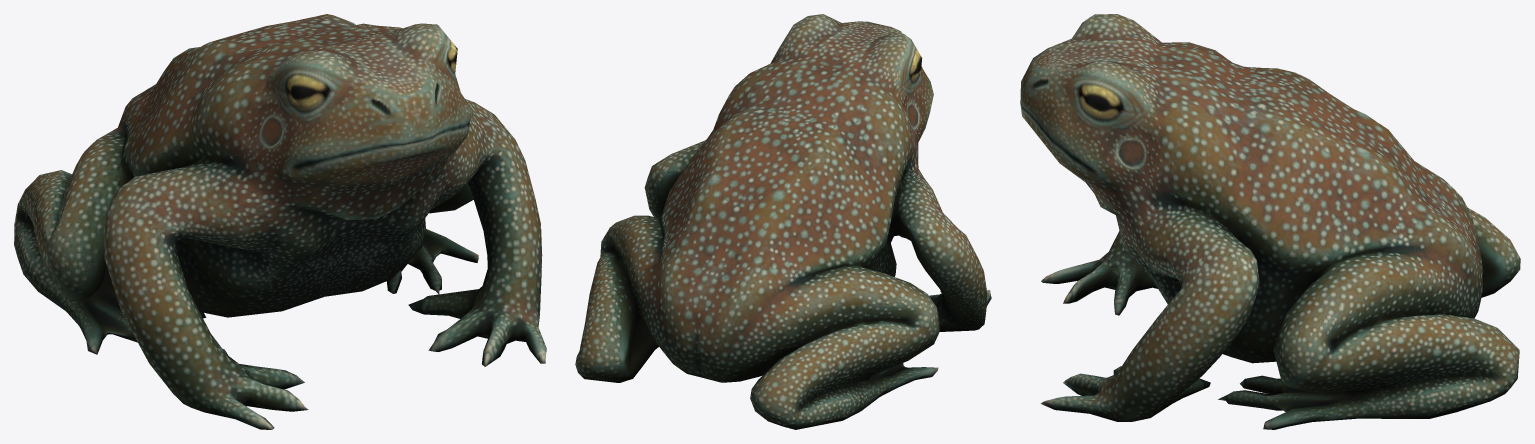
Rendered from MZ4250 - Giant Toad.glb.
3 renders of one model, left to right at view 1: azimuth 30°, elevation 25°; view 2: azimuth 150°, elevation 25°; view 3: azimuth 270°, elevation 25°, orthographic. The views are drawn at different scales.
Visible parts, largest first — view 1: body_low.001; view 2: body_low.001; view 3: body_low.001.
Boxes of the visible parts, <box> form: body_low.001: <box>14,14,546,429</box>; body_low.001: <box>575,14,991,429</box>; body_low.001: <box>1020,14,1520,429</box>.
Bounding box in the file's own units: 7.8 × 5.94 × 8.66.
1 material, 1 textured.
